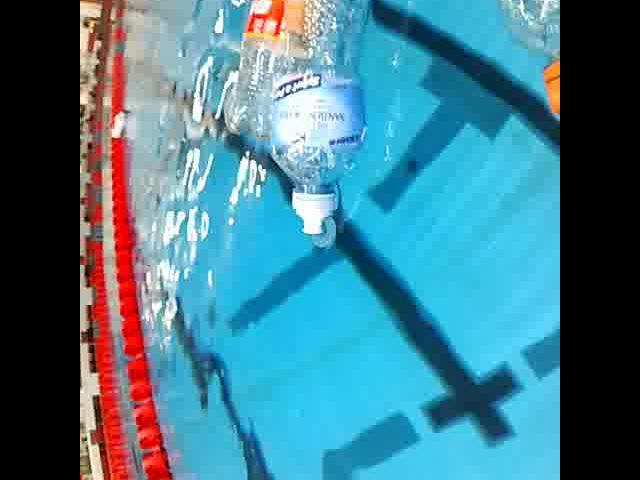Bottle: (276, 0, 375, 244), (438, 0, 560, 145), (219, 0, 314, 150)
